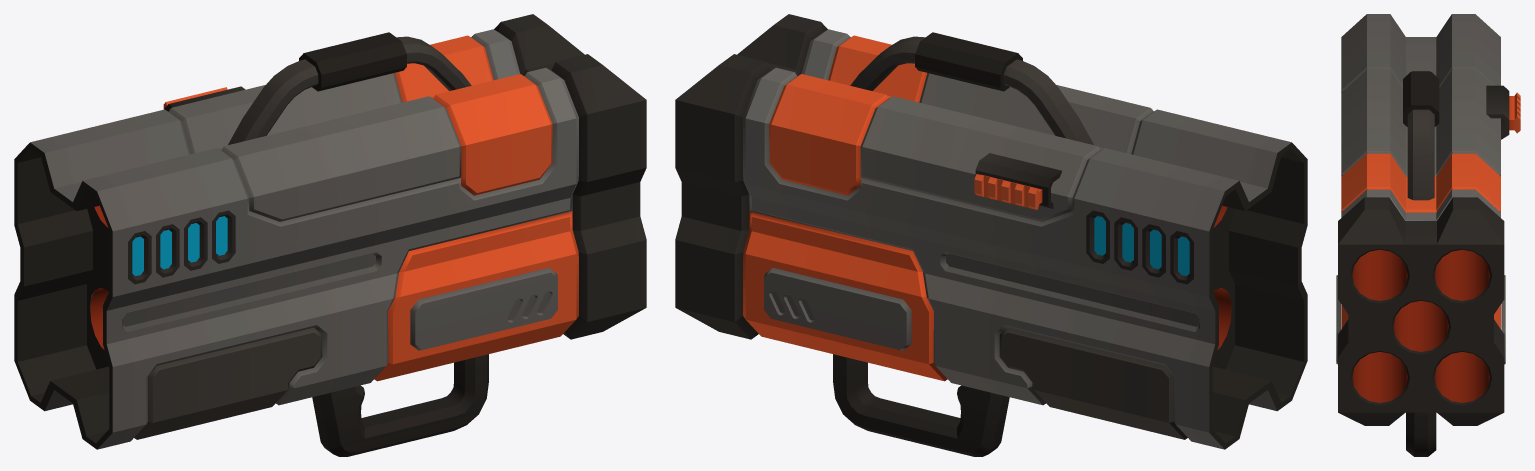
The picture shows the model from 3 angles, left to right: view 1: azimuth 30°, elevation 25°; view 2: azimuth 150°, elevation 25°; view 3: azimuth 270°, elevation 25°; orthographic projection. The views are drawn at different scales.
Parts seen in each view (by area): view 1: GL4_Base; view 2: GL4_Base; view 3: GL4_Base.
Boxes of the visible parts, box(x1,y1,x2,y2) form: GL4_Base: box(14, 14, 646, 456); GL4_Base: box(675, 14, 1307, 456); GL4_Base: box(1336, 14, 1520, 456).
Size of the model in its own units: 67.69 by 49.16 by 25.06.
